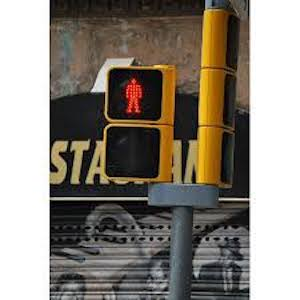red: (120, 79, 150, 114)
